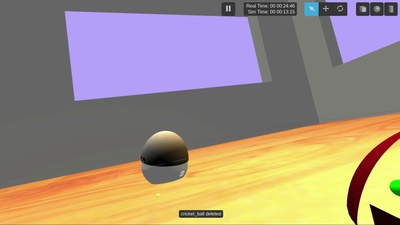mira_robot: (140, 130, 190, 185)
